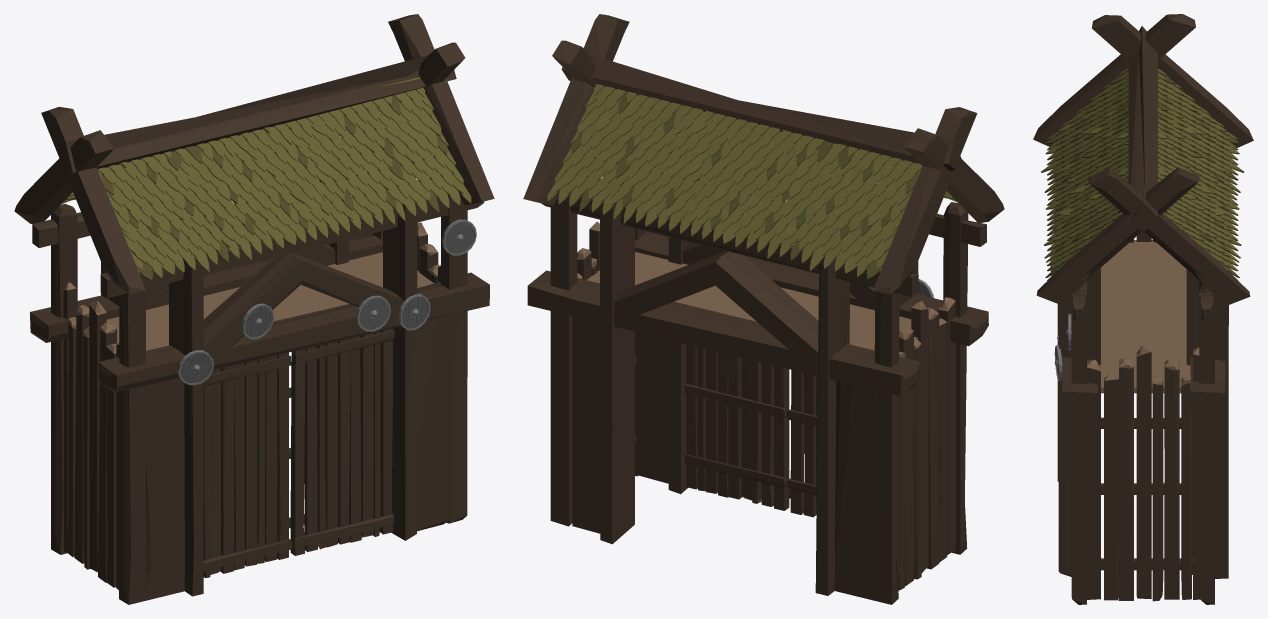
The model's file is SM_gatehouse_norse_closed.fbx.
The picture shows the model from 3 angles, left to right: view 1: azimuth 30°, elevation 25°; view 2: azimuth 150°, elevation 25°; view 3: azimuth 270°, elevation 25°; orthographic projection. The views are drawn at different scales.
Visible parts, largest first — view 1: Object554; view 2: Object554; view 3: Object554.
Part boxes in pixels (box(x1,y1,x2,y2)): Object554: box(14, 14, 494, 604); Object554: box(523, 14, 1004, 604); Object554: box(1033, 14, 1253, 604).
Size of the model in its own units: 422 by 488 by 225.
